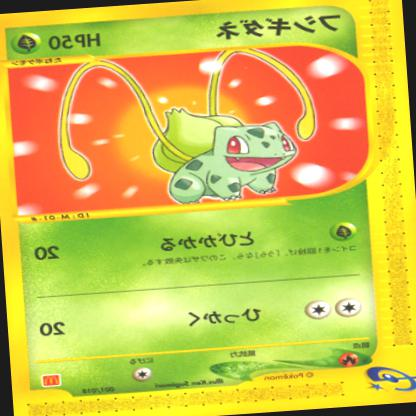Bulbasaur: (145, 98, 305, 207)
